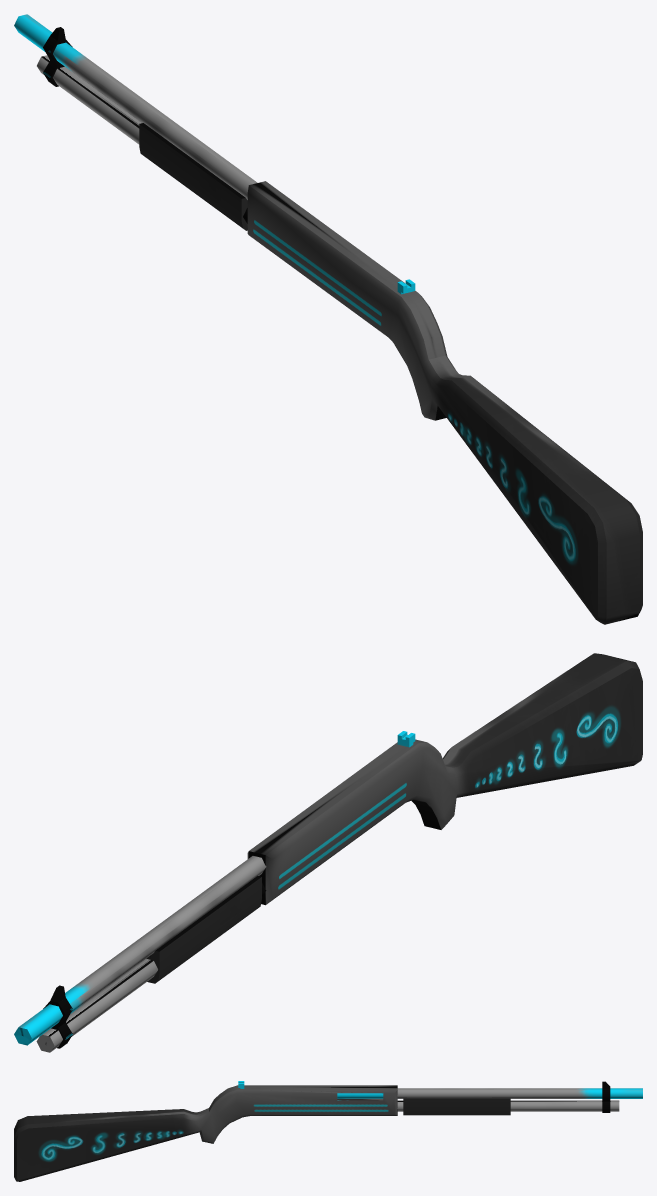
Rendered from shotgun.fbx.
3 renders of one model, top to bottom at view 1: azimuth 30°, elevation 25°; view 2: azimuth 150°, elevation 25°; view 3: azimuth 270°, elevation 25°, orthographic. The views are drawn at different scales.
Visible parts, largest first — view 1: Cube.004, Cylinder.004, Cube.005, Cylinder.003; view 2: Cube.004, Cylinder.004, Cube.005, Cylinder.003, Cylinder.005; view 3: Cube.004, Cylinder.004, Cube.005, Cylinder.003, Cylinder.005.
Boxes of the visible parts, x1=… form: Cube.004: x1=247, y1=181, x2=642, y2=624; Cylinder.004: x1=14, y1=14, x2=257, y2=199; Cube.005: x1=139, y1=123, x2=247, y2=230; Cylinder.003: x1=37, y1=55, x2=247, y2=223; Cube.004: x1=247, y1=653, x2=642, y2=905; Cylinder.004: x1=14, y1=856, x2=266, y2=1045; Cube.005: x1=146, y1=876, x2=261, y2=983; Cylinder.003: x1=36, y1=883, x2=266, y2=1052; Cylinder.005: x1=43, y1=985, x2=72, y2=1048; Cube.004: x1=14, y1=1085, x2=397, y2=1181; Cylinder.004: x1=337, y1=1088, x2=642, y2=1098; Cube.005: x1=403, y1=1098, x2=510, y2=1115; Cylinder.003: x1=397, y1=1100, x2=619, y2=1111; Cylinder.005: x1=602, y1=1081, x2=610, y2=1112.
Bounding box in the file's own units: 251 × 975 × 5815.
1 material, 1 textured.
